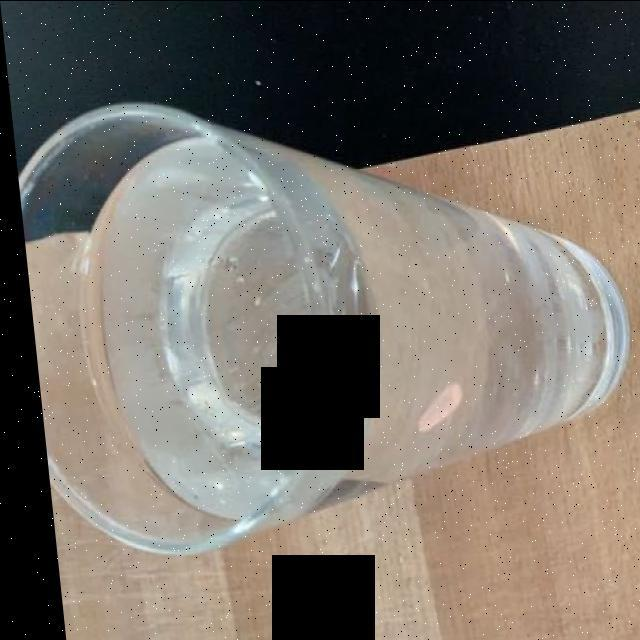water: (62, 127, 606, 540)
